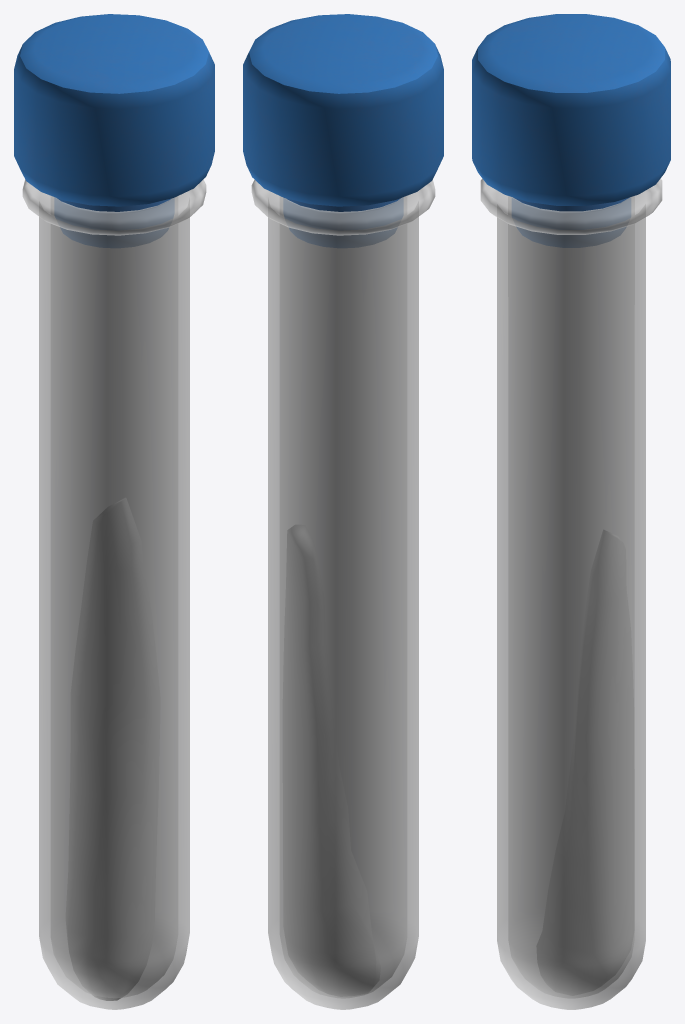
File: SM_Urea.fbx
3 renders of one model, left to right at view 1: azimuth 30°, elevation 25°; view 2: azimuth 150°, elevation 25°; view 3: azimuth 270°, elevation 25°, orthographic.
Parts seen in each view (by area): view 1: polySurface31; view 2: polySurface31; view 3: polySurface31.
Boxes of the visible parts, left/top/right/bottom form: polySurface31: left=14, top=14, right=214, bottom=1009; polySurface31: left=243, top=14, right=443, bottom=1009; polySurface31: left=472, top=14, right=670, bottom=1009.
Size of the model in its own units: 2.92 by 15.49 by 2.92.
